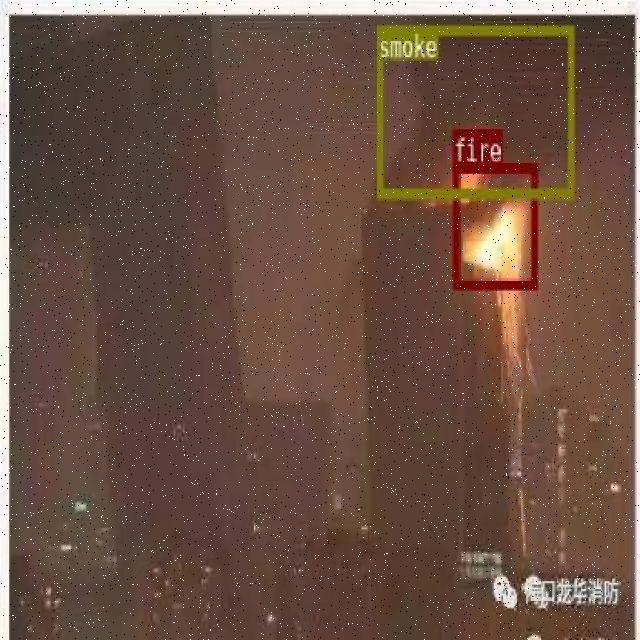Smoke: (376, 56, 573, 164)
